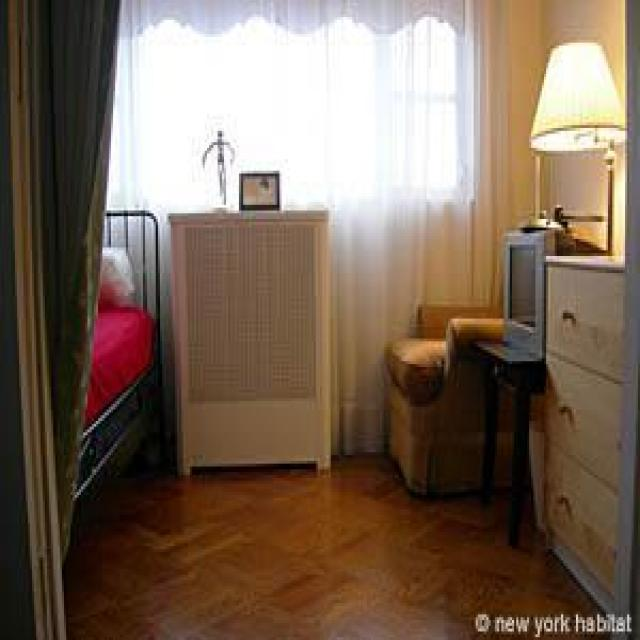bed: (71, 207, 162, 503)
cupboard: (540, 250, 631, 629)
curtains: (98, 0, 491, 464)
pillows: (96, 245, 137, 307)
plants: (200, 128, 234, 205)
table: (472, 333, 546, 546)
table-lamp: (527, 37, 625, 253)
television: (499, 225, 557, 358)
white-board: (166, 205, 333, 475)
windows: (104, 0, 478, 216)
